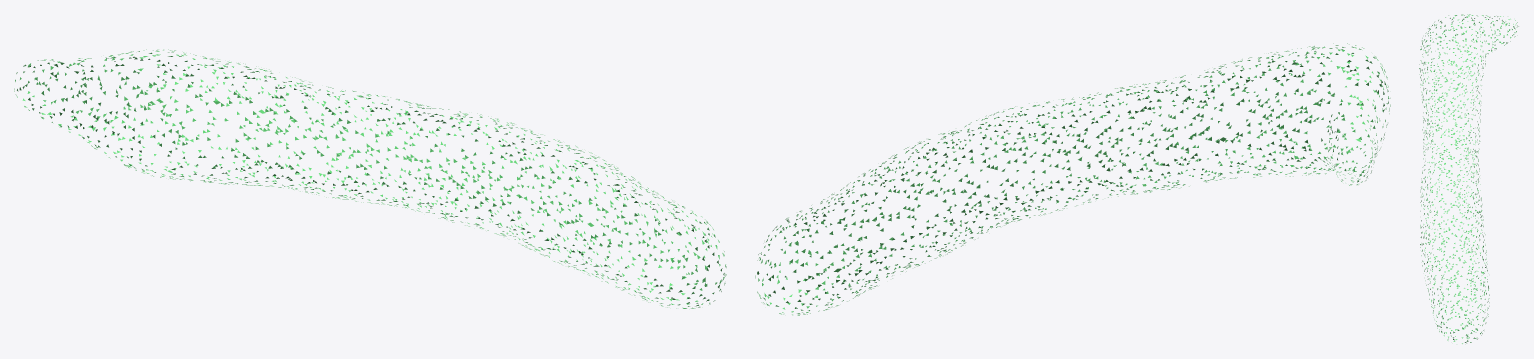
File: morph_019.glb
The picture shows the model from 3 angles, left to right: view 1: azimuth 30°, elevation 25°; view 2: azimuth 150°, elevation 25°; view 3: azimuth 270°, elevation 25°; orthographic projection. The views are drawn at different scales.
Size of the model in its own units: 122 by 69.32 by 32.54.
